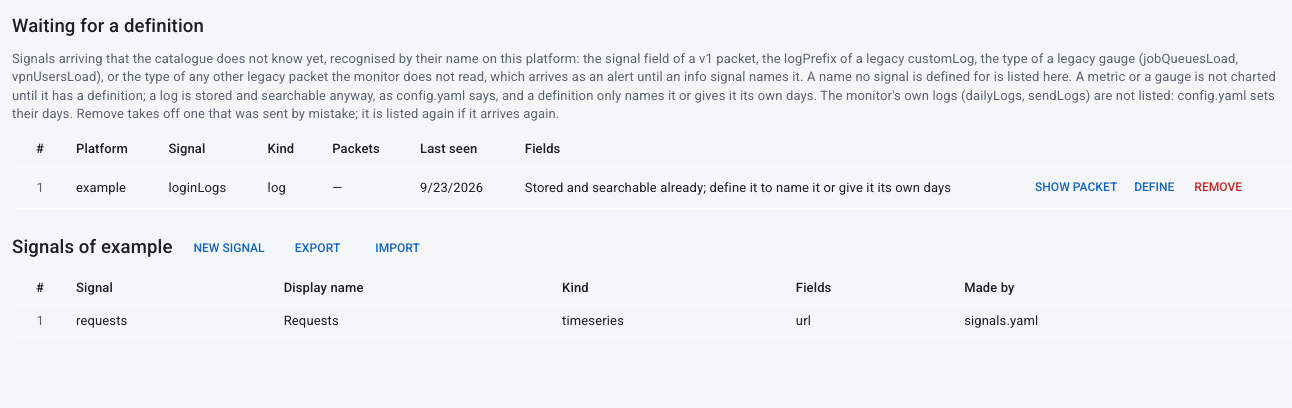
SignalsPage › says what an empty log retention falls back to
This screenshot has width=1292, height=408.
Click the button "Define".
click(1154, 188)  # box left=1122, top=173, right=1186, bottom=202
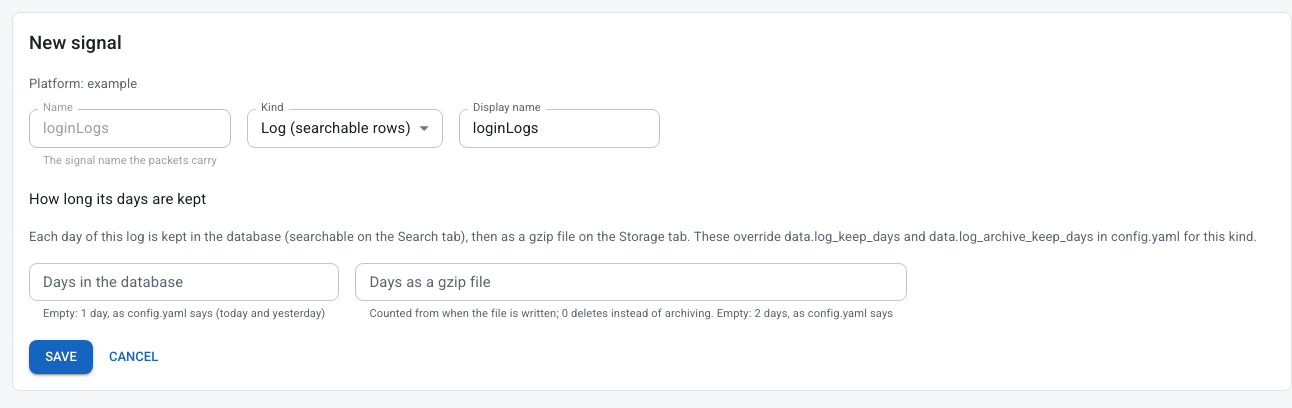
Expected: the text "Empty: 1 day, as config.yaml says (today and yesterday)" is shown, left=43, top=305, right=325, bottom=324
Expected: the text "Counted from when the file is written; 0 deletes instead of archiving. Empty: 2 days, as config.yaml says" is shown, left=369, top=307, right=893, bottom=320
